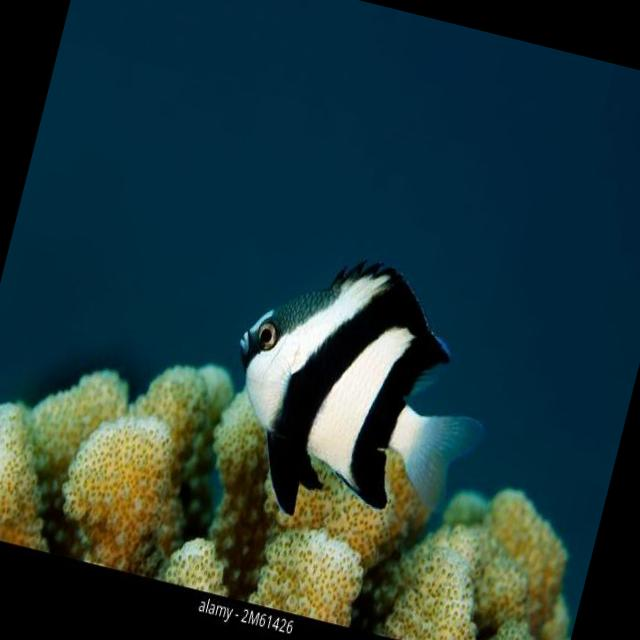Three_striped DasmselFish: (198, 230, 516, 552)
